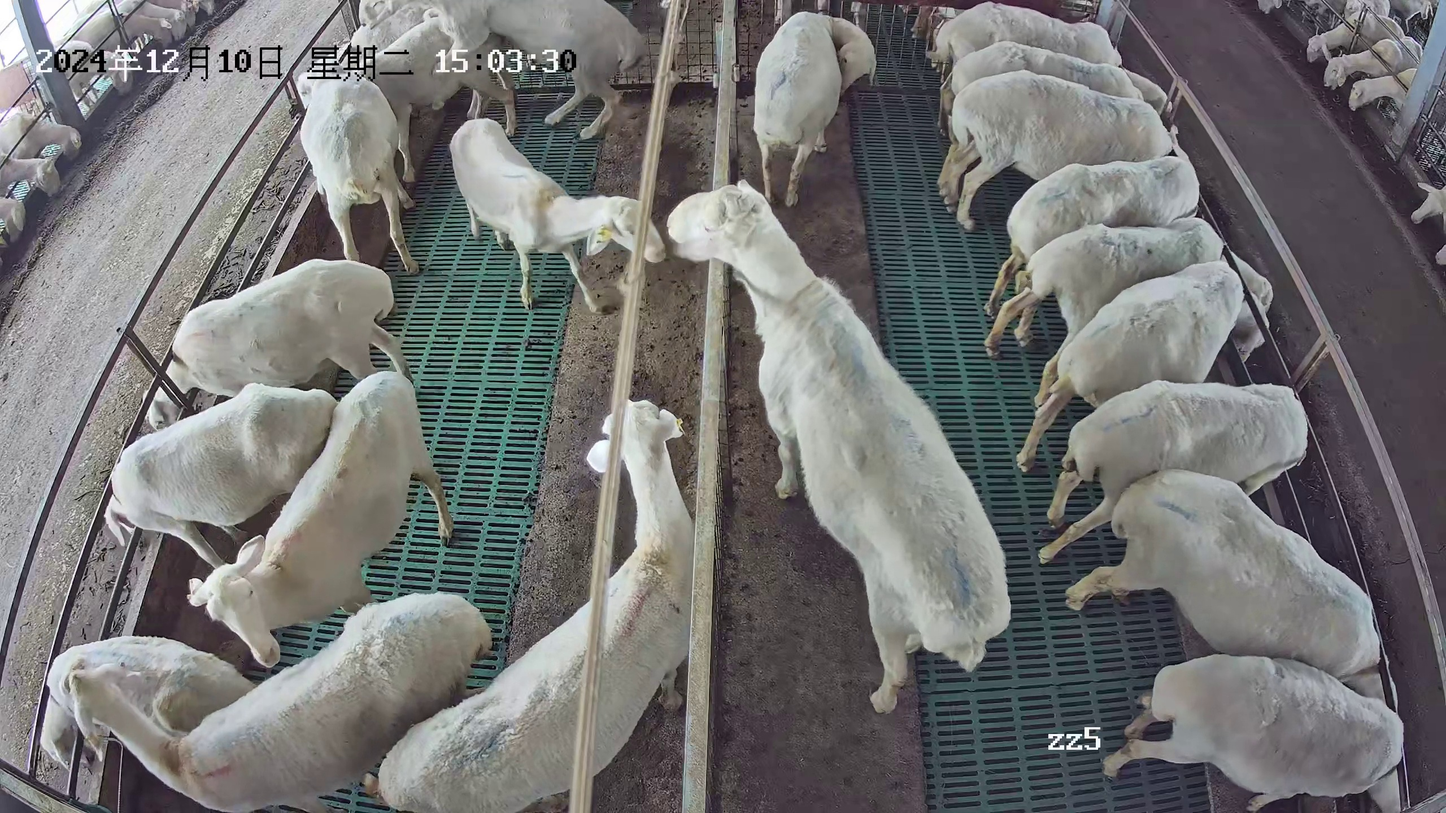Smounting: (348, 1, 646, 191)
mounted: (351, 15, 522, 189)
